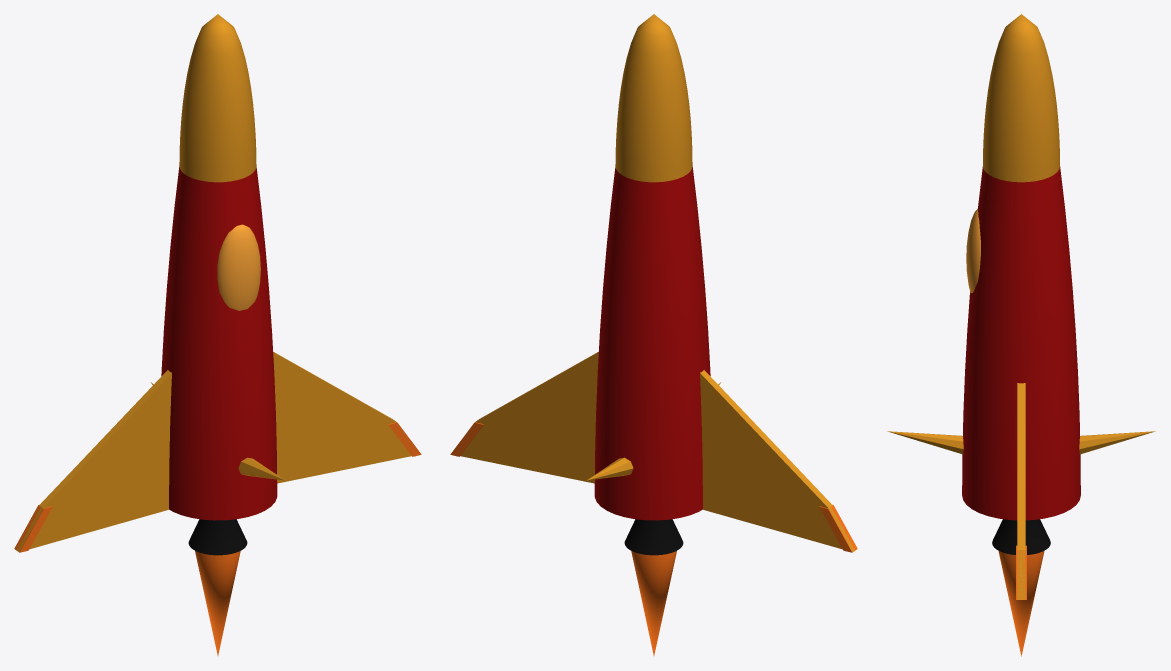
File: Rocket_29_GoldenHawk.obj
3 renders of one model, left to right at view 1: azimuth 30°, elevation 25°; view 2: azimuth 150°, elevation 25°; view 3: azimuth 270°, elevation 25°, orthographic.
Parts seen in each view (by area): view 1: R29_Body, R29_Fin_2, R29_Fin_1, R29_Nose, R29_Cockpit, R29_Flame_1, R29_Nozzle_1, R29_FinGlow_2; view 2: R29_Body, R29_Fin_2, R29_Fin_1, R29_Nose, R29_Flame_1, R29_Nozzle_1, R29_FinGlow_2; view 3: R29_Body, R29_Nose, R29_Fin_1, R29_Flame_1, R29_Nozzle_1, R29_Cockpit, R29_Spike_1, R29_Spike_2.
Part boxes in pixels (left/top/right/bottom): R29_Body: left=161, top=165, right=277, bottom=520; R29_Fin_2: left=17, top=370, right=171, bottom=551; R29_Fin_1: left=273, top=352, right=411, bottom=483; R29_Nose: left=179, top=14, right=256, bottom=182; R29_Cockpit: left=217, top=224, right=260, bottom=310; R29_Flame_1: left=195, top=551, right=240, bottom=655; R29_Nozzle_1: left=188, top=519, right=247, bottom=555; R29_FinGlow_2: left=14, top=504, right=52, bottom=552; R29_Body: left=594, top=165, right=710, bottom=520; R29_Fin_2: left=700, top=370, right=854, bottom=551; R29_Fin_1: left=460, top=352, right=598, bottom=483; R29_Nose: left=615, top=14, right=692, bottom=182; R29_Flame_1: left=631, top=551, right=676, bottom=655; R29_Nozzle_1: left=624, top=519, right=683, bottom=555; R29_FinGlow_2: left=819, top=504, right=857, bottom=552; R29_Body: left=962, top=166, right=1080, bottom=520; R29_Nose: left=983, top=14, right=1059, bottom=182; R29_Fin_1: left=1017, top=383, right=1025, bottom=599; R29_Flame_1: left=998, top=550, right=1044, bottom=656; R29_Nozzle_1: left=992, top=519, right=1050, bottom=554; R29_Cockpit: left=966, top=208, right=980, bottom=293; R29_Spike_1: left=1079, top=431, right=1155, bottom=454; R29_Spike_2: left=887, top=431, right=963, bottom=454.
Size of the model in its own units: 6.64 by 10.15 by 3.87.
